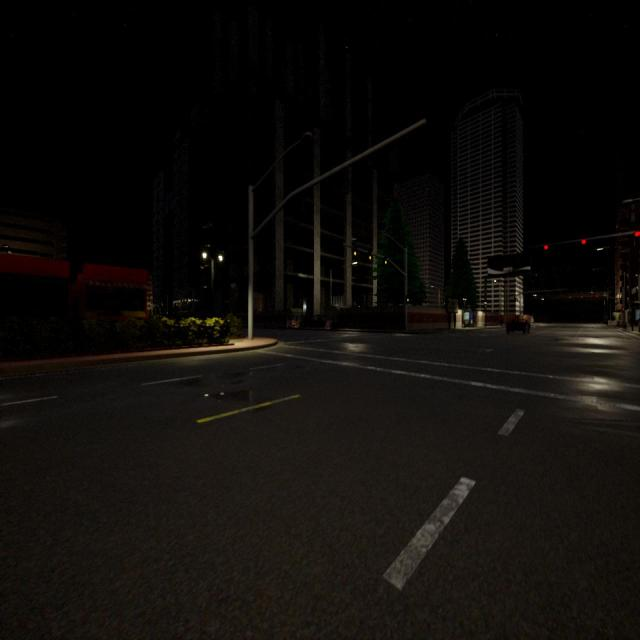Vehicle: (506, 319, 530, 335), (529, 314, 535, 324)
traffic_light: (252, 273, 259, 293), (352, 247, 357, 260), (406, 295, 410, 305), (368, 252, 372, 262), (634, 231, 640, 237), (581, 239, 586, 244), (544, 245, 548, 250), (385, 257, 387, 265), (622, 306, 624, 313), (568, 296, 572, 299), (581, 295, 583, 299), (596, 295, 598, 298)
